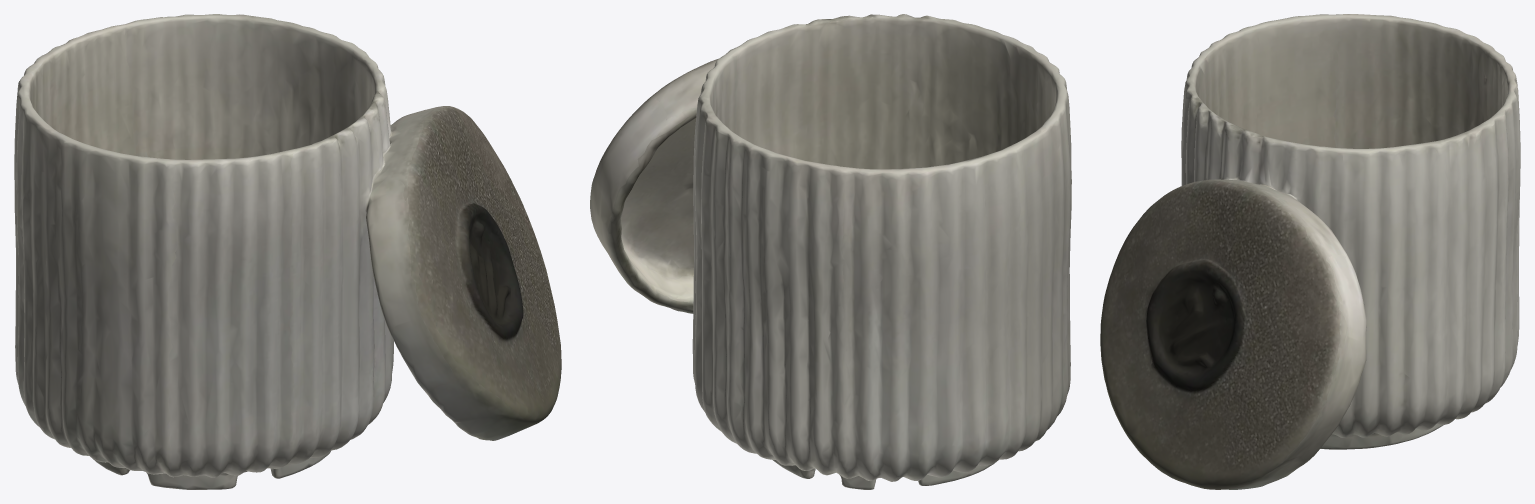
File: kora.glb
3 views of the same model, side by side, from view 1: azimuth 30°, elevation 25°; view 2: azimuth 150°, elevation 25°; view 3: azimuth 270°, elevation 25° (orthographic). The views are drawn at different scales.
Visible parts, largest first — view 1: geometry_0; view 2: geometry_0; view 3: geometry_0.
Part boxes in pixels (x1,y1,x2,y2): geometry_0: (14, 14, 561, 489); geometry_0: (590, 14, 1071, 489); geometry_0: (1100, 14, 1520, 489).
Bounding box in the file's own units: 1 × 0.7083 × 0.8401.
Materials: 1 (1 with a texture image).
